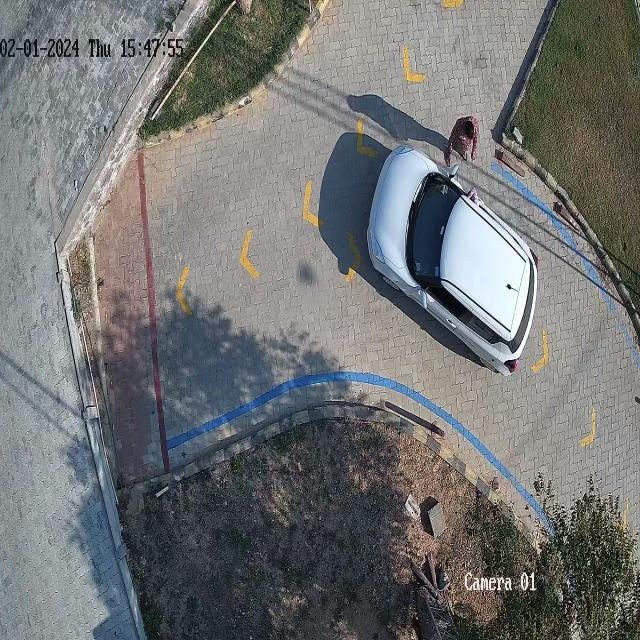car: (368, 148, 538, 371)
